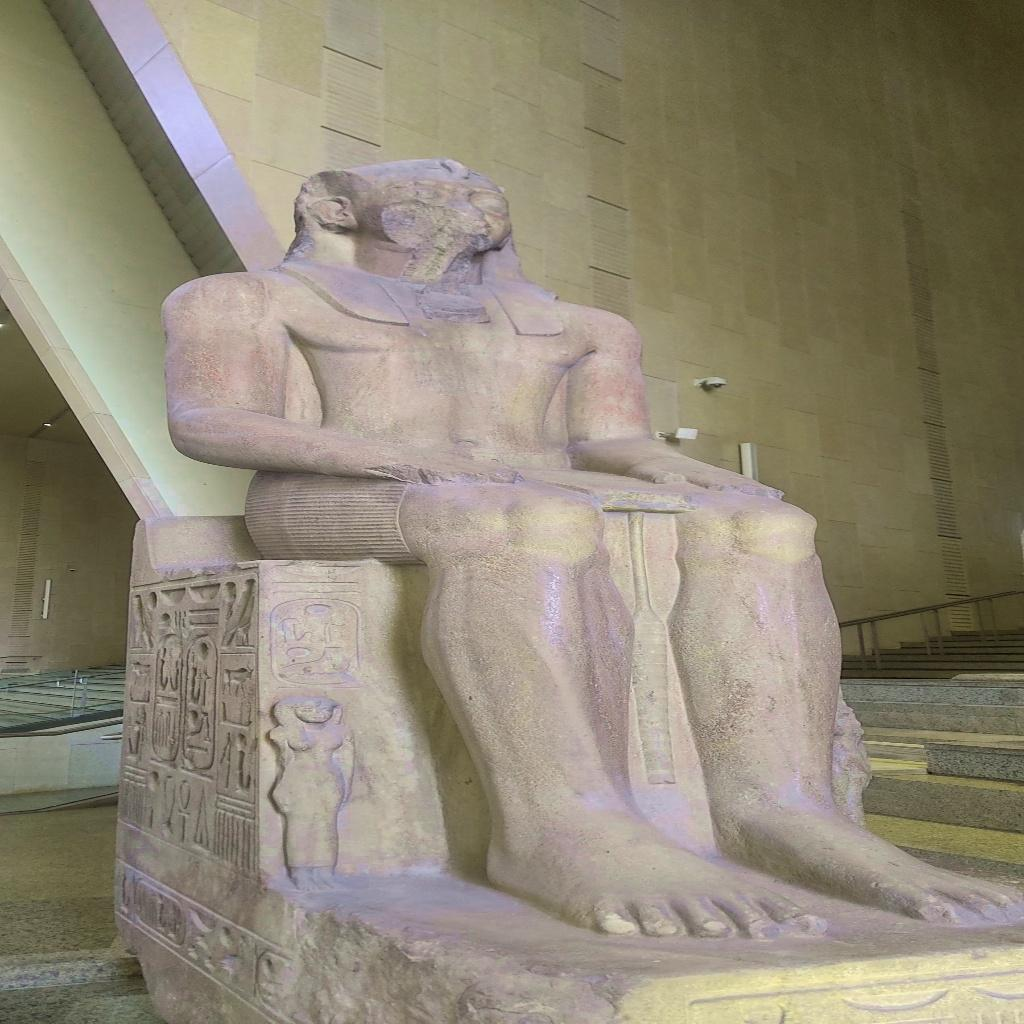Colossal Statue of Middle Kingdom King: (150, 155, 1014, 943)
